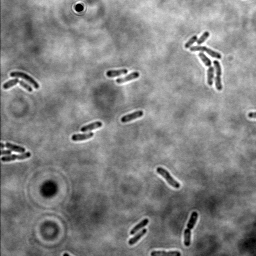Dividing: (182, 210, 200, 247), (150, 248, 183, 256)
Microcolony: (184, 30, 224, 92)
Rod: (8, 70, 40, 90), (156, 166, 181, 189), (127, 227, 147, 246), (115, 70, 140, 85), (119, 109, 144, 124), (128, 218, 149, 235), (80, 120, 103, 133), (4, 141, 26, 154), (70, 132, 95, 142), (104, 68, 128, 78), (2, 77, 20, 90), (18, 78, 33, 93)
